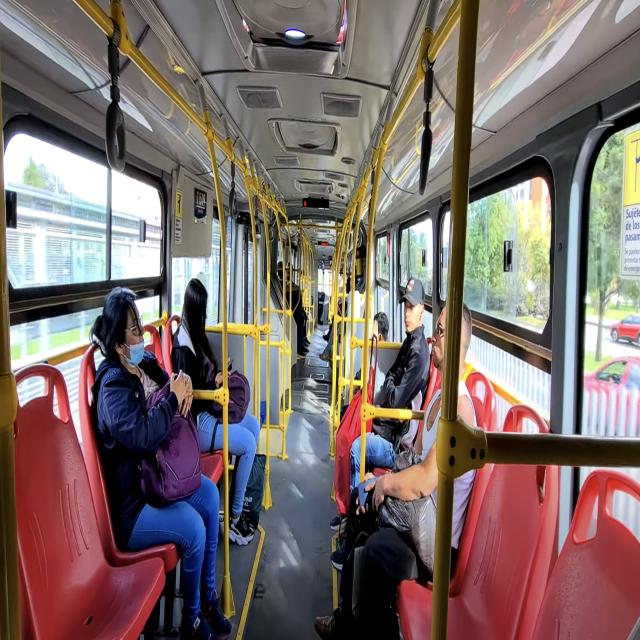persona: (99, 289, 150, 376), (428, 306, 466, 381), (179, 274, 212, 360), (402, 282, 424, 344), (371, 312, 389, 344), (286, 264, 296, 284)
